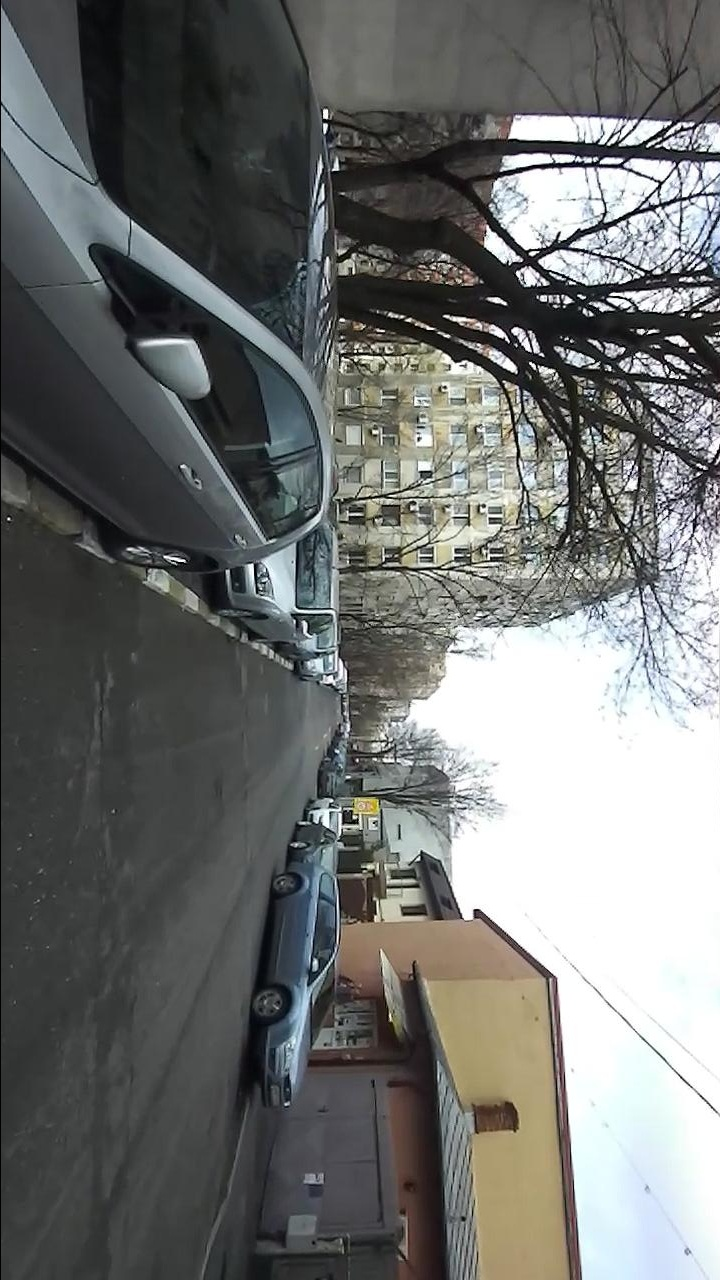pothole: (88, 671, 113, 768), (211, 781, 225, 806)
